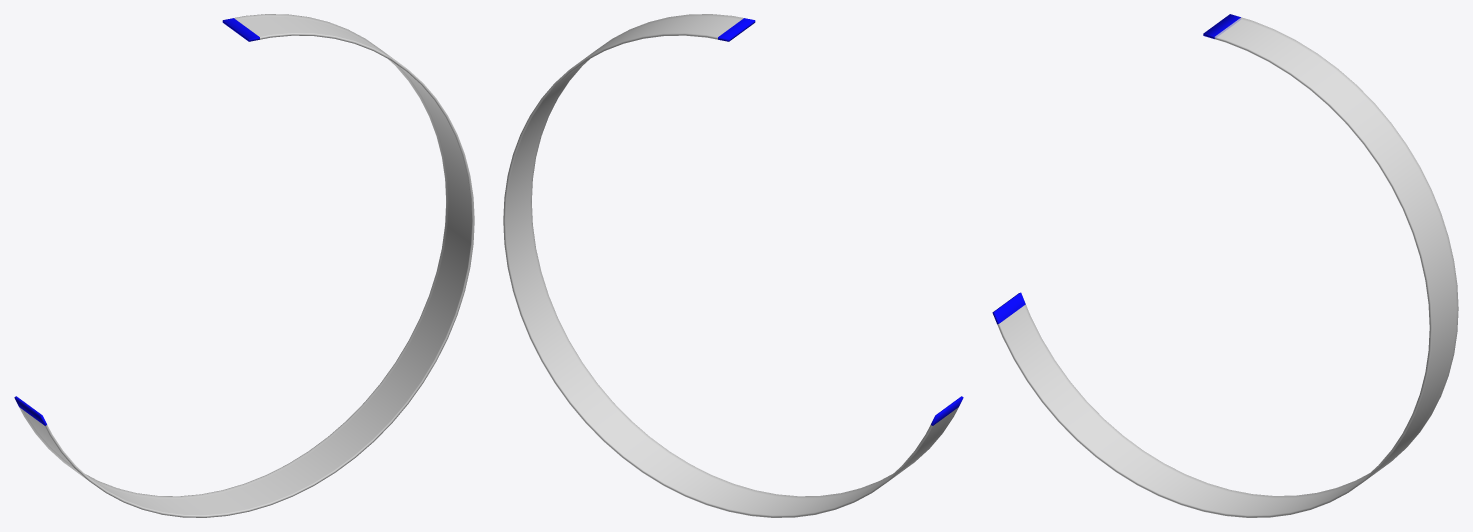
File: LongNote11.fbx
3 renders of one model, left to right at view 1: azimuth 30°, elevation 25°; view 2: azimuth 150°, elevation 25°; view 3: azimuth 330°, elevation 25°, orthographic.
Visible parts, largest first — view 1: LongNote11; view 2: LongNote11; view 3: LongNote11.
Part boxes in pixels (x1,y1,x2,y2): LongNote11: (14, 14, 474, 517); LongNote11: (503, 14, 963, 517); LongNote11: (992, 14, 1458, 517).
Bounding box in the file's own units: 190 × 20 × 198.
